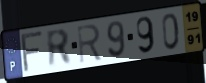0: (161, 12, 181, 52)
9: (106, 20, 127, 60), (136, 15, 156, 55)
F: (20, 29, 45, 74)
R: (76, 22, 104, 66), (45, 28, 74, 70)
